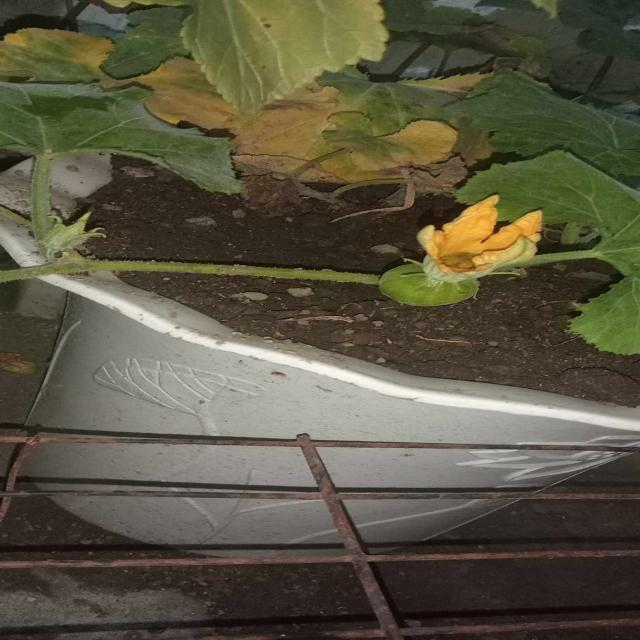flower: (409, 192, 548, 283)
squash: (376, 263, 481, 307)
